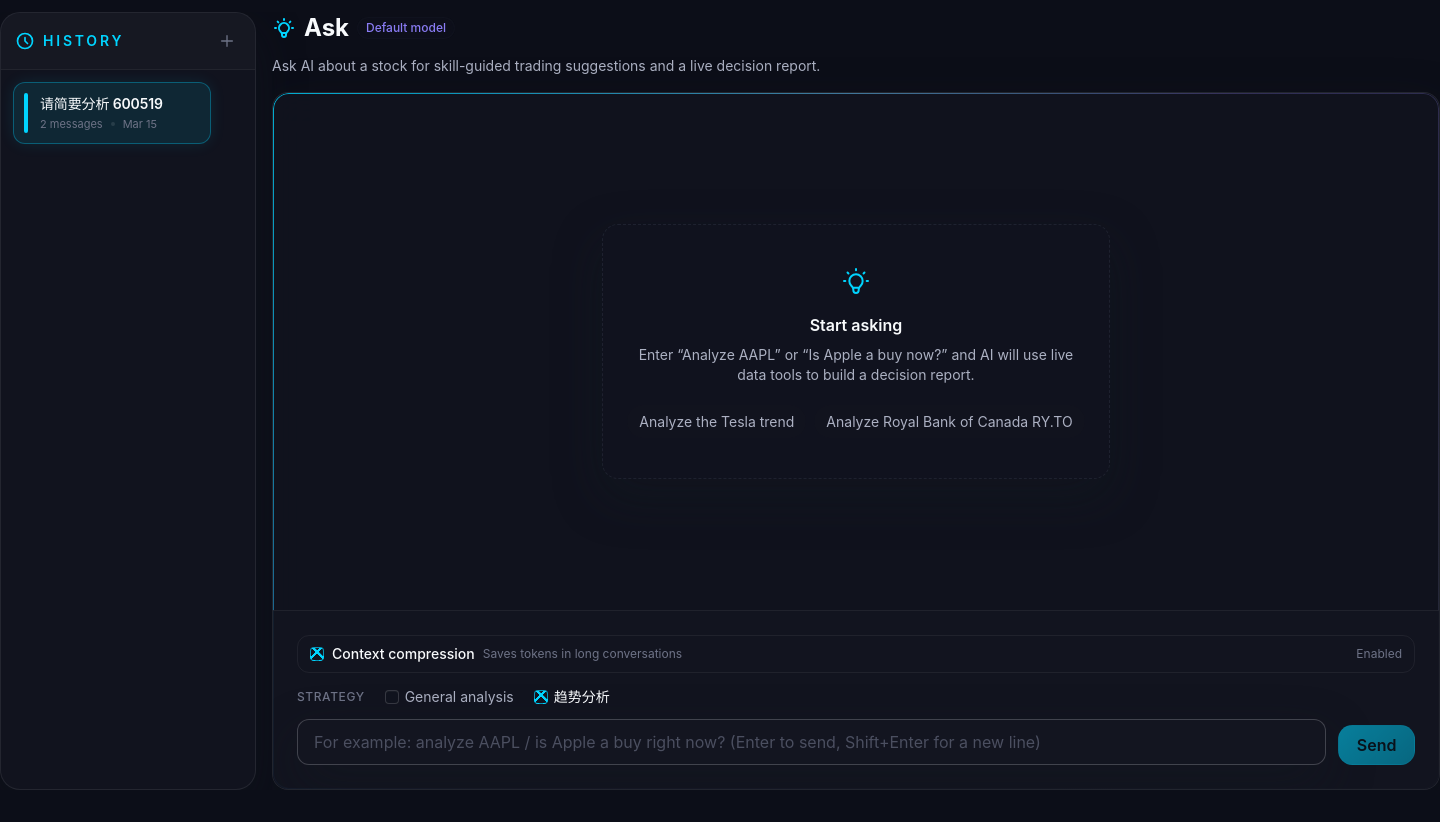
Test: ChatPage › rolls back the context compression switch when saving fails
Click the checkbox labelled "Context compression Saves tokens in long conversations" at (317, 654), box [310,647,324,661]
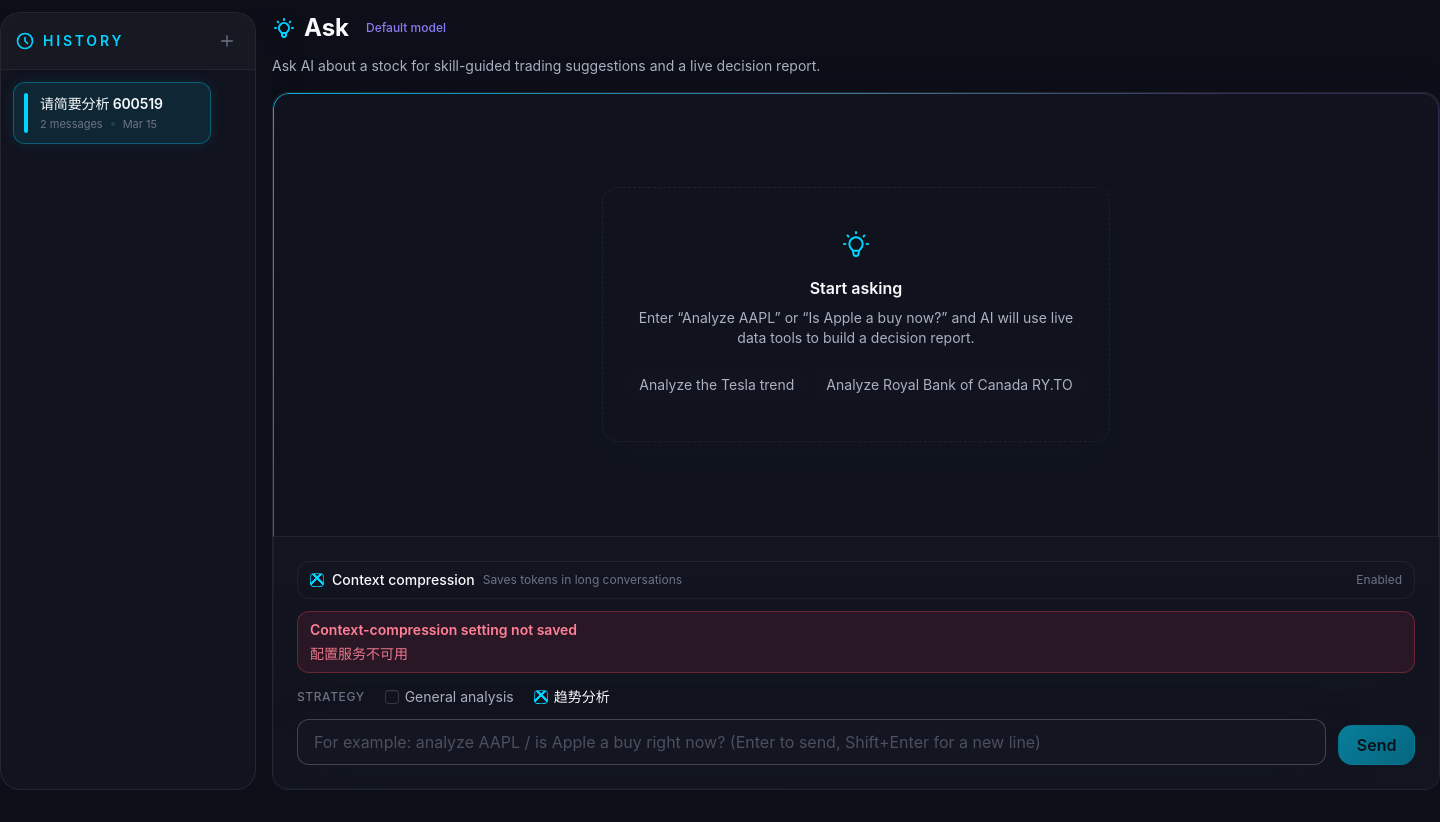
Expected: the checkbox labelled "Context compression Saves tokens in long conversations" is checked, [310,573,324,587]
Expected: the text "配置服务不可用" is shown, [310,645,408,662]
